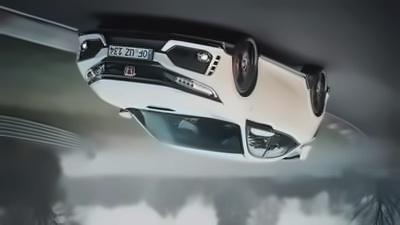Car hood: (89, 79, 237, 120)
Driver-s door - -F-R-: (241, 46, 284, 164)
Fender - -F-R-: (219, 70, 263, 140)
Fender - -R-R-: (305, 96, 329, 150)
Front bumper: (73, 25, 236, 94)
Headlight - -L-: (84, 58, 106, 85)
Headlight - -R-: (165, 76, 224, 103)
Passenger-s door - -R-R-: (266, 56, 308, 164), (247, 116, 275, 140)
Side bumper - -R-: (257, 53, 309, 99)
